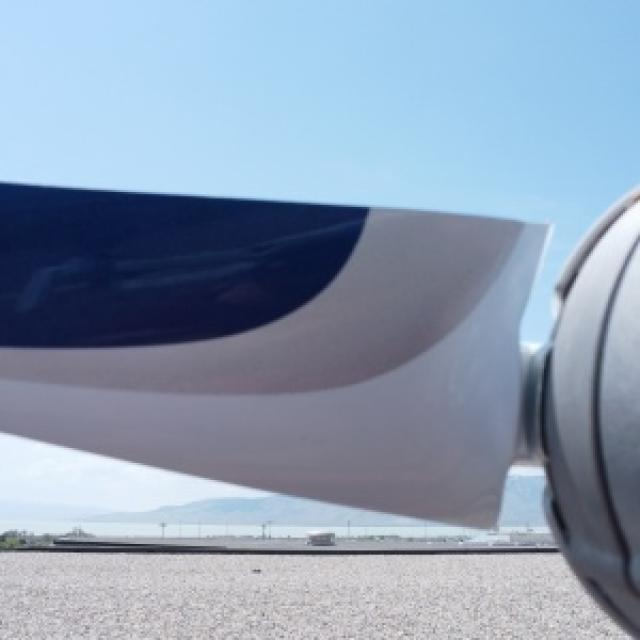healthy: (0, 183, 638, 634)
